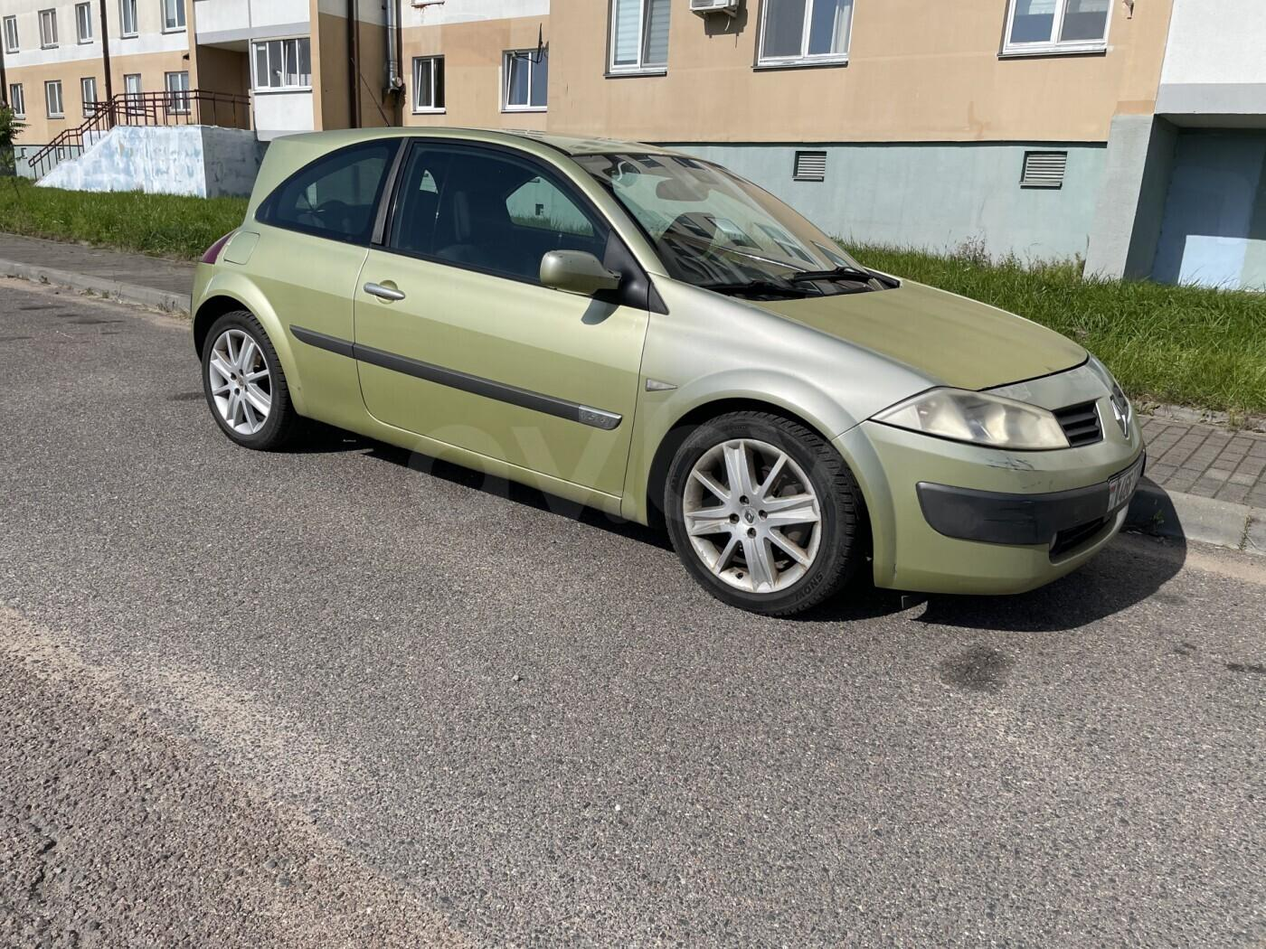Megane_2002-2006: (189, 117, 1151, 643)
